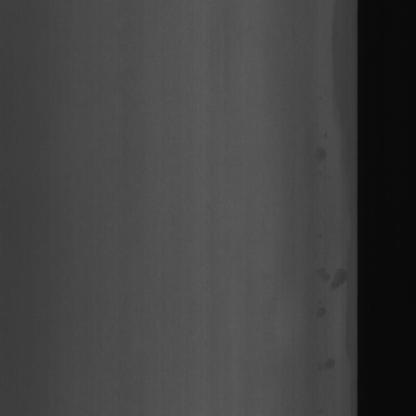oil_spot: (312, 260, 346, 310), (314, 134, 330, 177), (322, 346, 340, 380)
